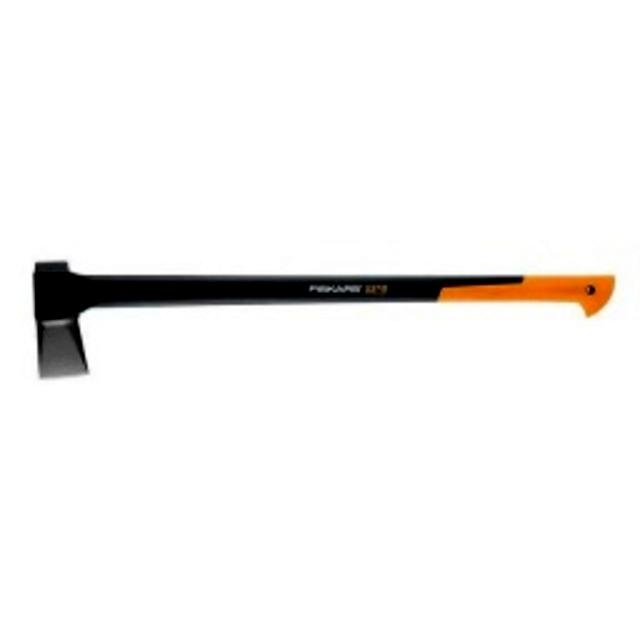ax: (21, 242, 628, 388)
